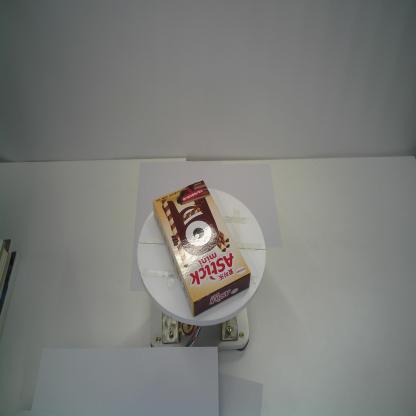Dessert: (152, 180, 251, 318)
